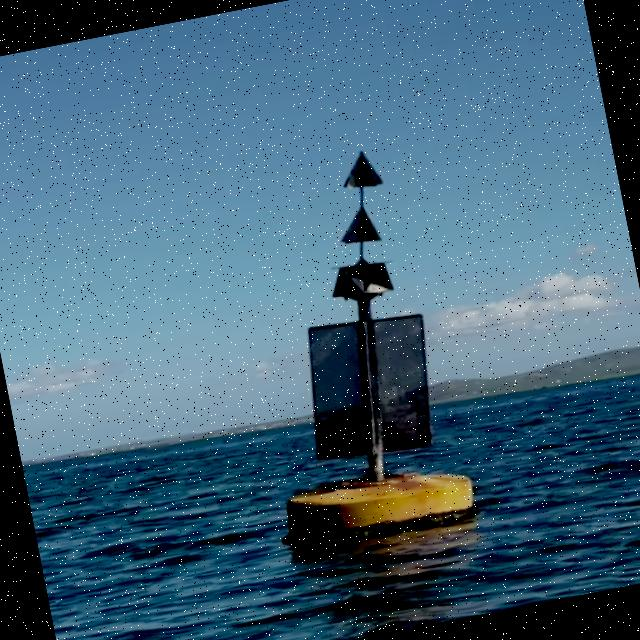marque: (209, 145, 483, 557)
